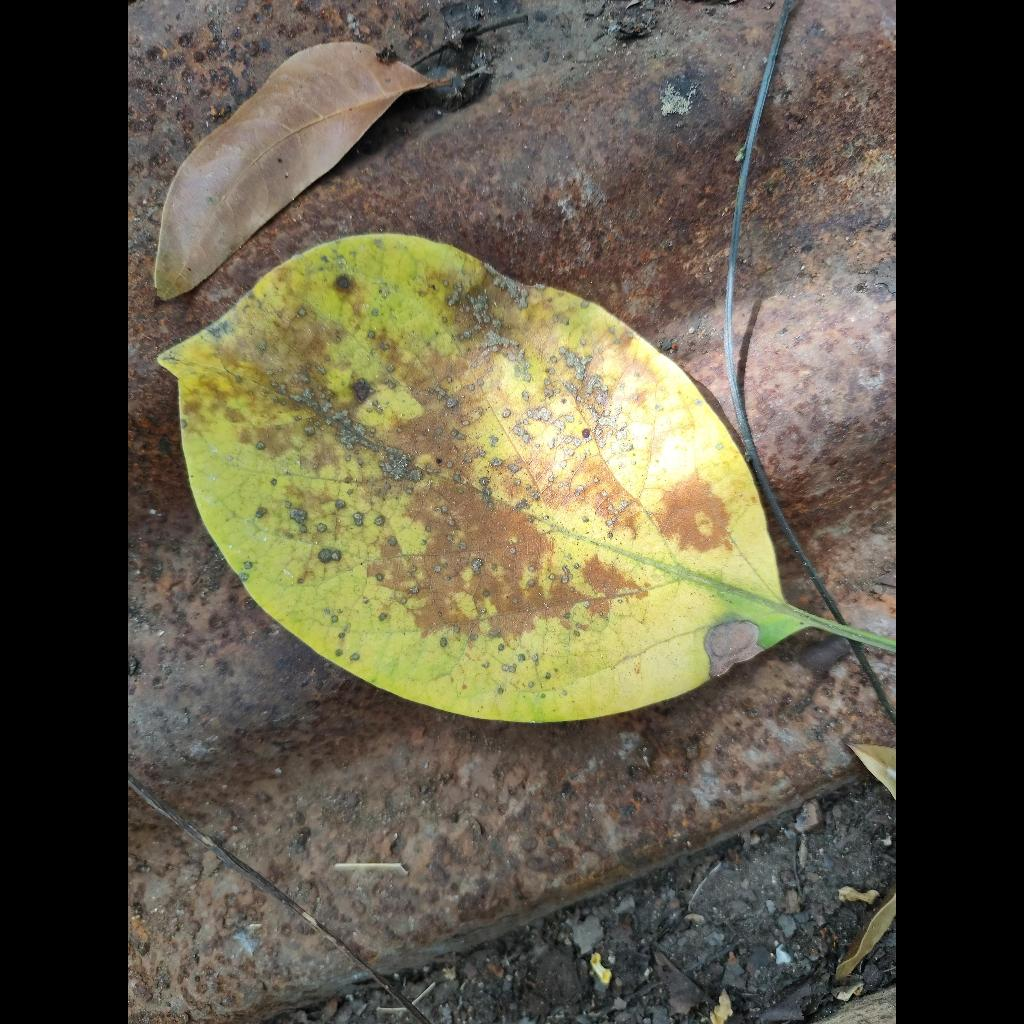deficiencia_nutricional: (159, 234, 822, 721)
